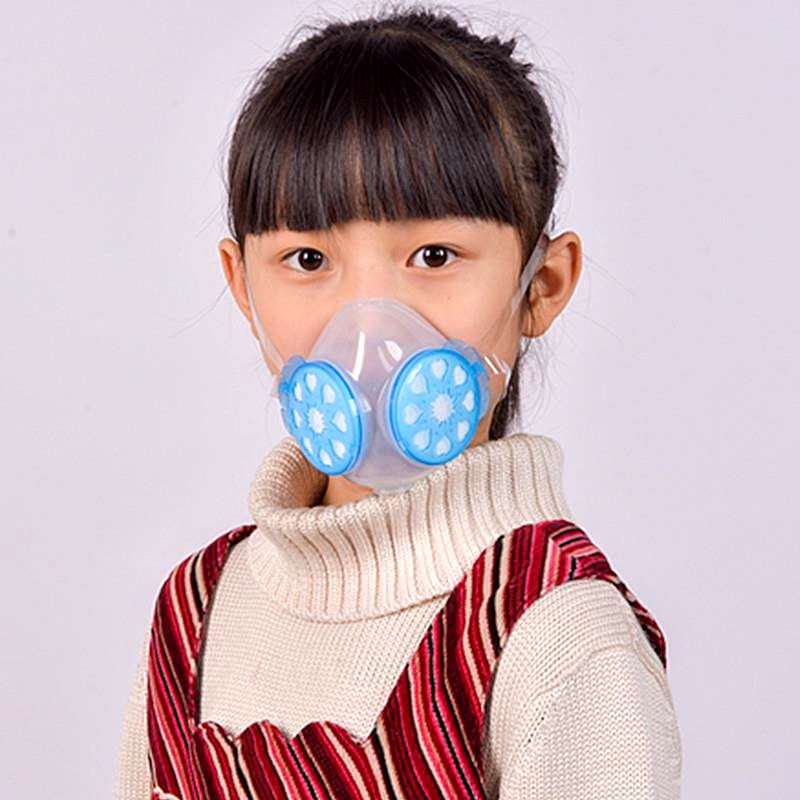face_mask: (251, 133, 521, 485)
